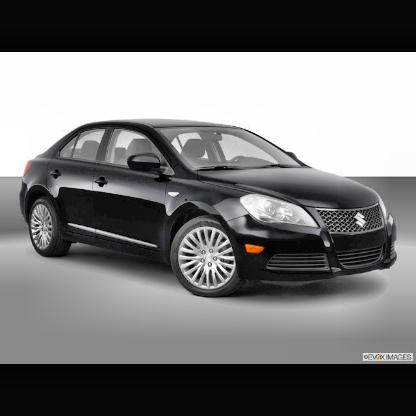Suzuki Kizashi Sedan 2012: (21, 120, 400, 298)
